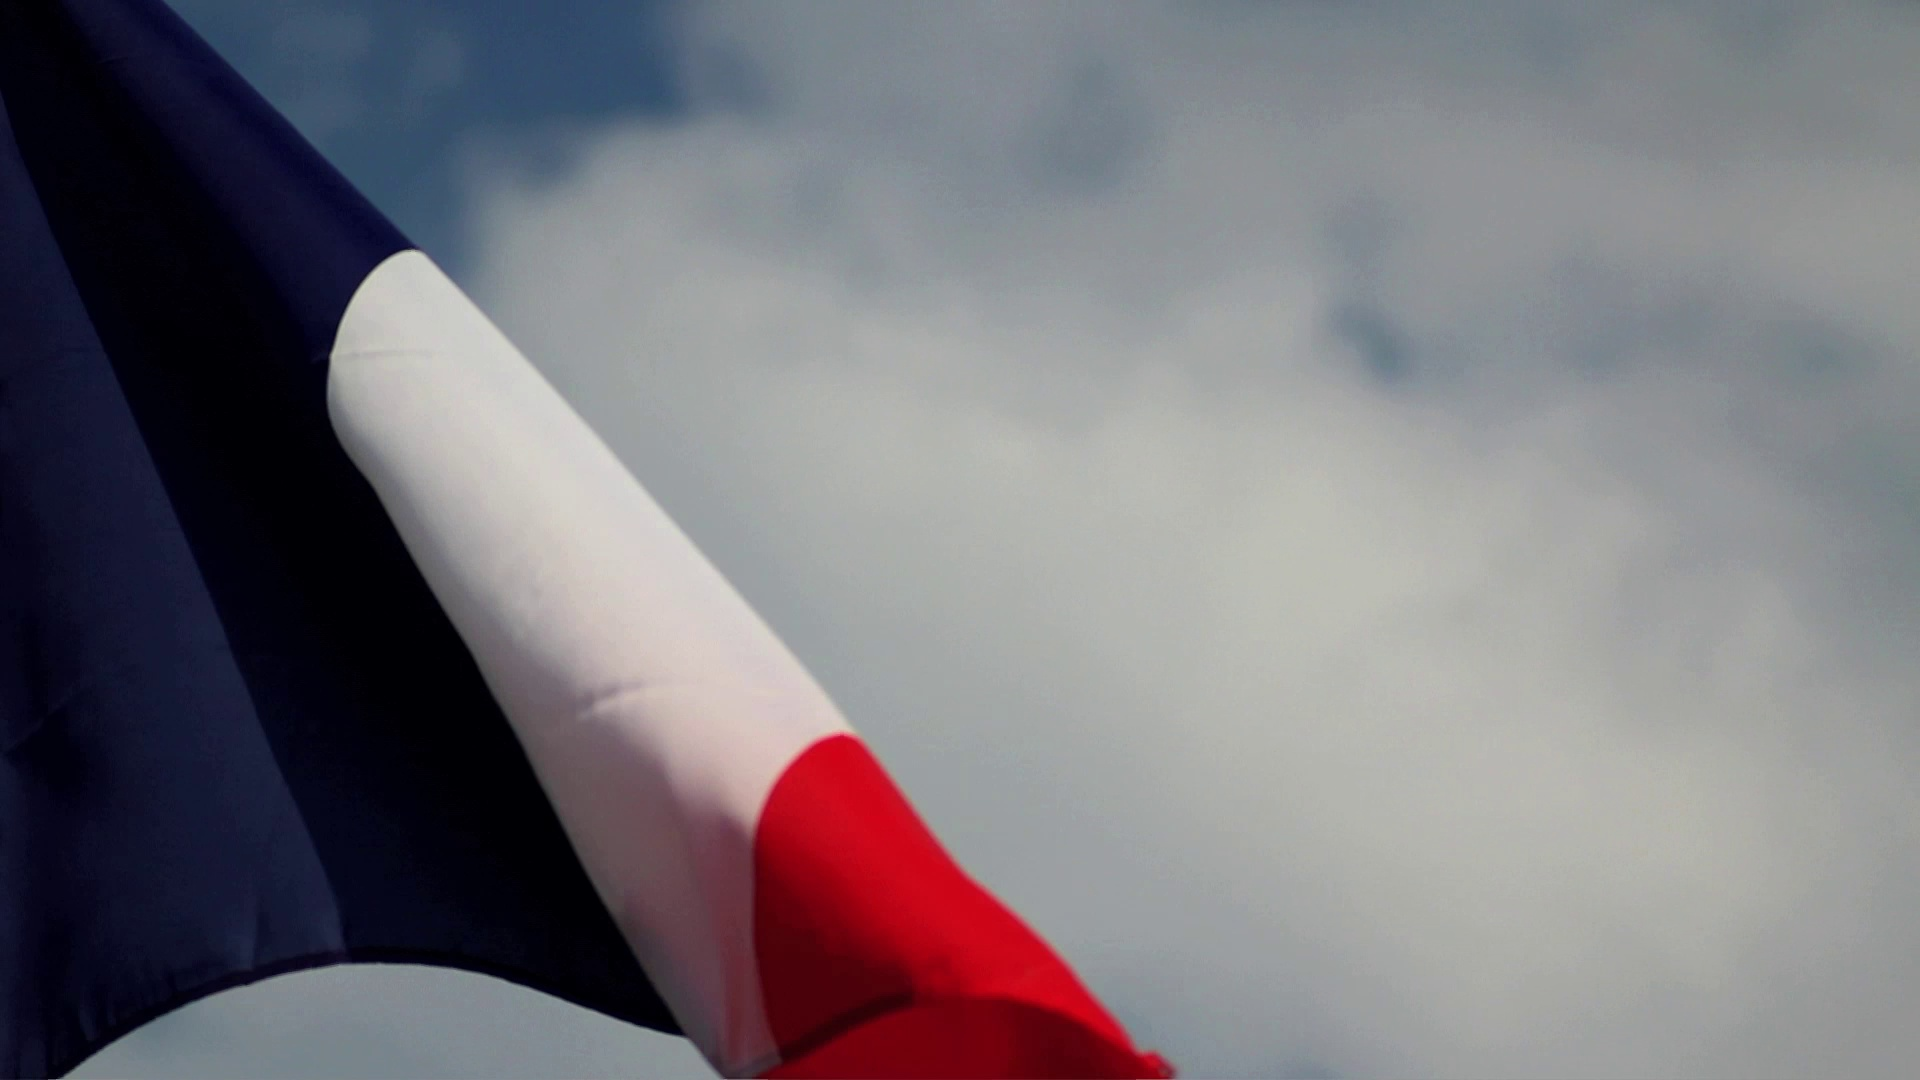French Flag: (1, 1, 1174, 1080)
